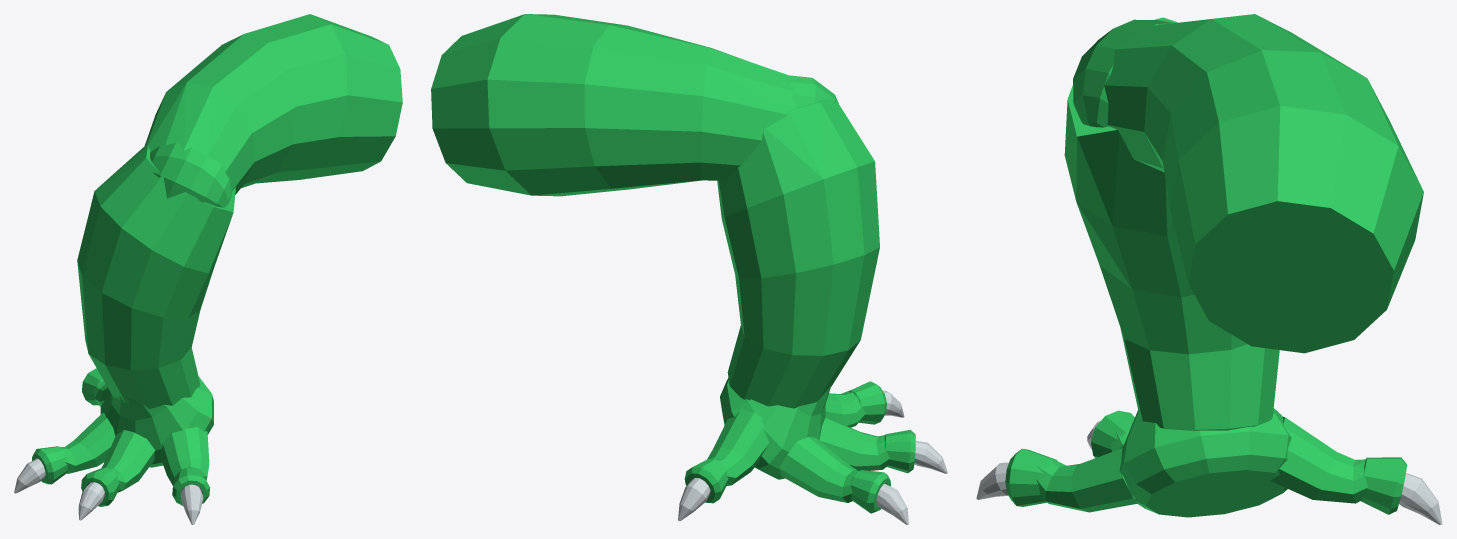
The model's file is Second_GreenLongLeg.fbx.
The picture shows the model from 3 angles, left to right: view 1: azimuth 30°, elevation 25°; view 2: azimuth 150°, elevation 25°; view 3: azimuth 270°, elevation 25°; orthographic projection. The views are drawn at different scales.
Visible parts, largest first — view 1: group341279888, group940515321, group1142560514, group1657471406, group489508894, group1815783311, group961104201, group1427719167; view 2: group341279888, group940515321, group1815783311, group1427719167, group1657471406, group1142560514, group961104201, group489508894; view 3: group341279888, group940515321, group1142560514, group1427719167, group961104201, group489508894, group1657471406.
Part boxes in pixels (bbox=[...]): group341279888: bbox=[144, 14, 402, 194]; group940515321: bbox=[77, 146, 235, 408]; group1142560514: bbox=[100, 376, 213, 467]; group1657471406: bbox=[78, 430, 155, 520]; group489508894: bbox=[150, 143, 231, 207]; group1815783311: bbox=[14, 412, 115, 493]; group961104201: bbox=[159, 427, 210, 524]; group1427719167: bbox=[82, 368, 109, 406]; group341279888: bbox=[431, 14, 797, 196]; group940515321: bbox=[717, 97, 879, 408]; group1815783311: bbox=[779, 437, 908, 524]; group1427719167: bbox=[678, 410, 769, 521]; group1657471406: bbox=[819, 417, 947, 473]; group1142560514: bbox=[720, 378, 831, 479]; group961104201: bbox=[825, 381, 904, 427]; group489508894: bbox=[789, 75, 838, 107]; group341279888: bbox=[1104, 14, 1423, 353]; group940515321: bbox=[1064, 17, 1279, 430]; group1142560514: bbox=[1119, 408, 1291, 517]; group1427719167: bbox=[1270, 417, 1442, 524]; group961104201: bbox=[976, 448, 1137, 512]; group489508894: bbox=[1073, 19, 1173, 127]; group1657471406: bbox=[1087, 410, 1134, 457].
Bounding box in the file's own units: 62.04 × 58.94 × 42.22.
